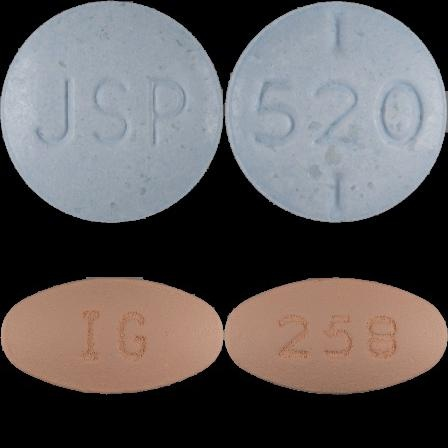10544-266: (0, 0, 224, 224)
